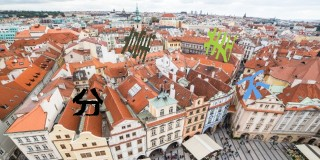不: (236, 70, 269, 99)
分: (72, 88, 103, 116)
差: (203, 27, 236, 62)
毫: (121, 27, 156, 61)
